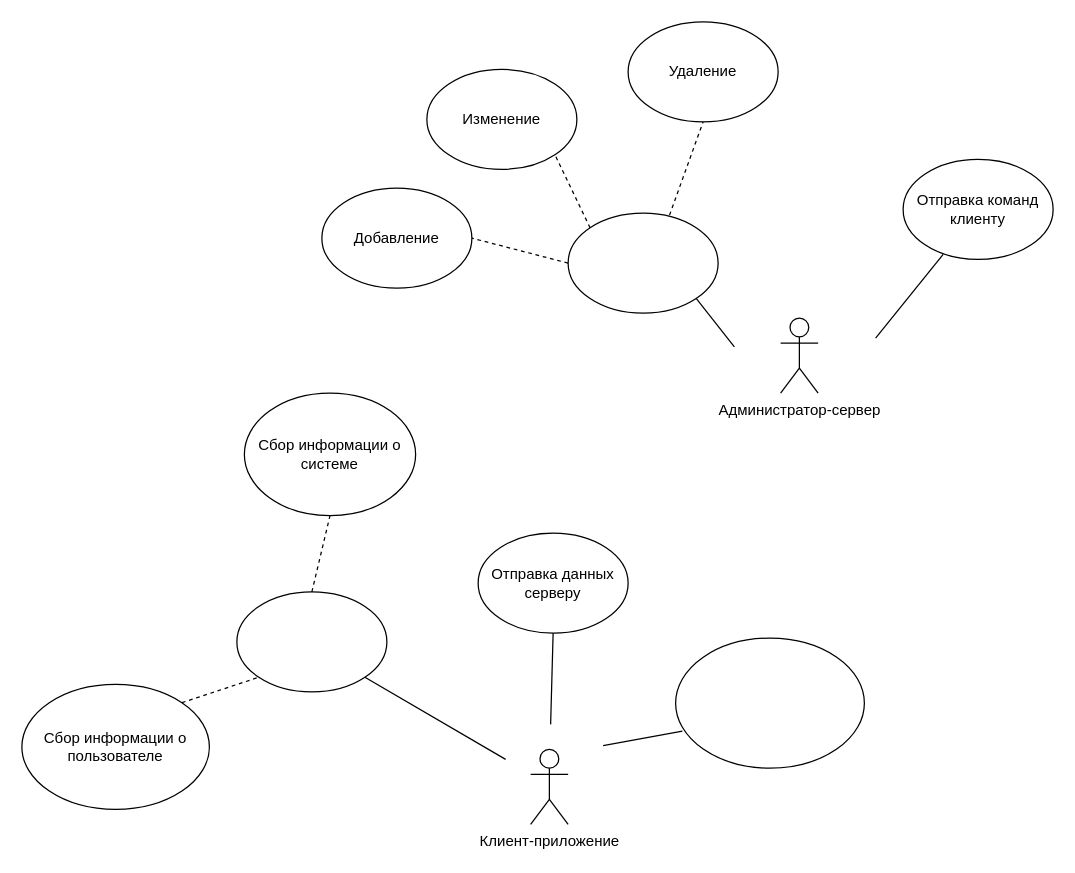
Some shapes in this 1075 by 873 pixel diagram are drawn without their labels. The centre of each missing label's shape, as x and y in pixels:
"Выполнение команд присланных с сервера" goes at (x=769, y=702).
"Сбор данных" goes at (x=311, y=641).
"Управление клиентами" goes at (x=642, y=262).
